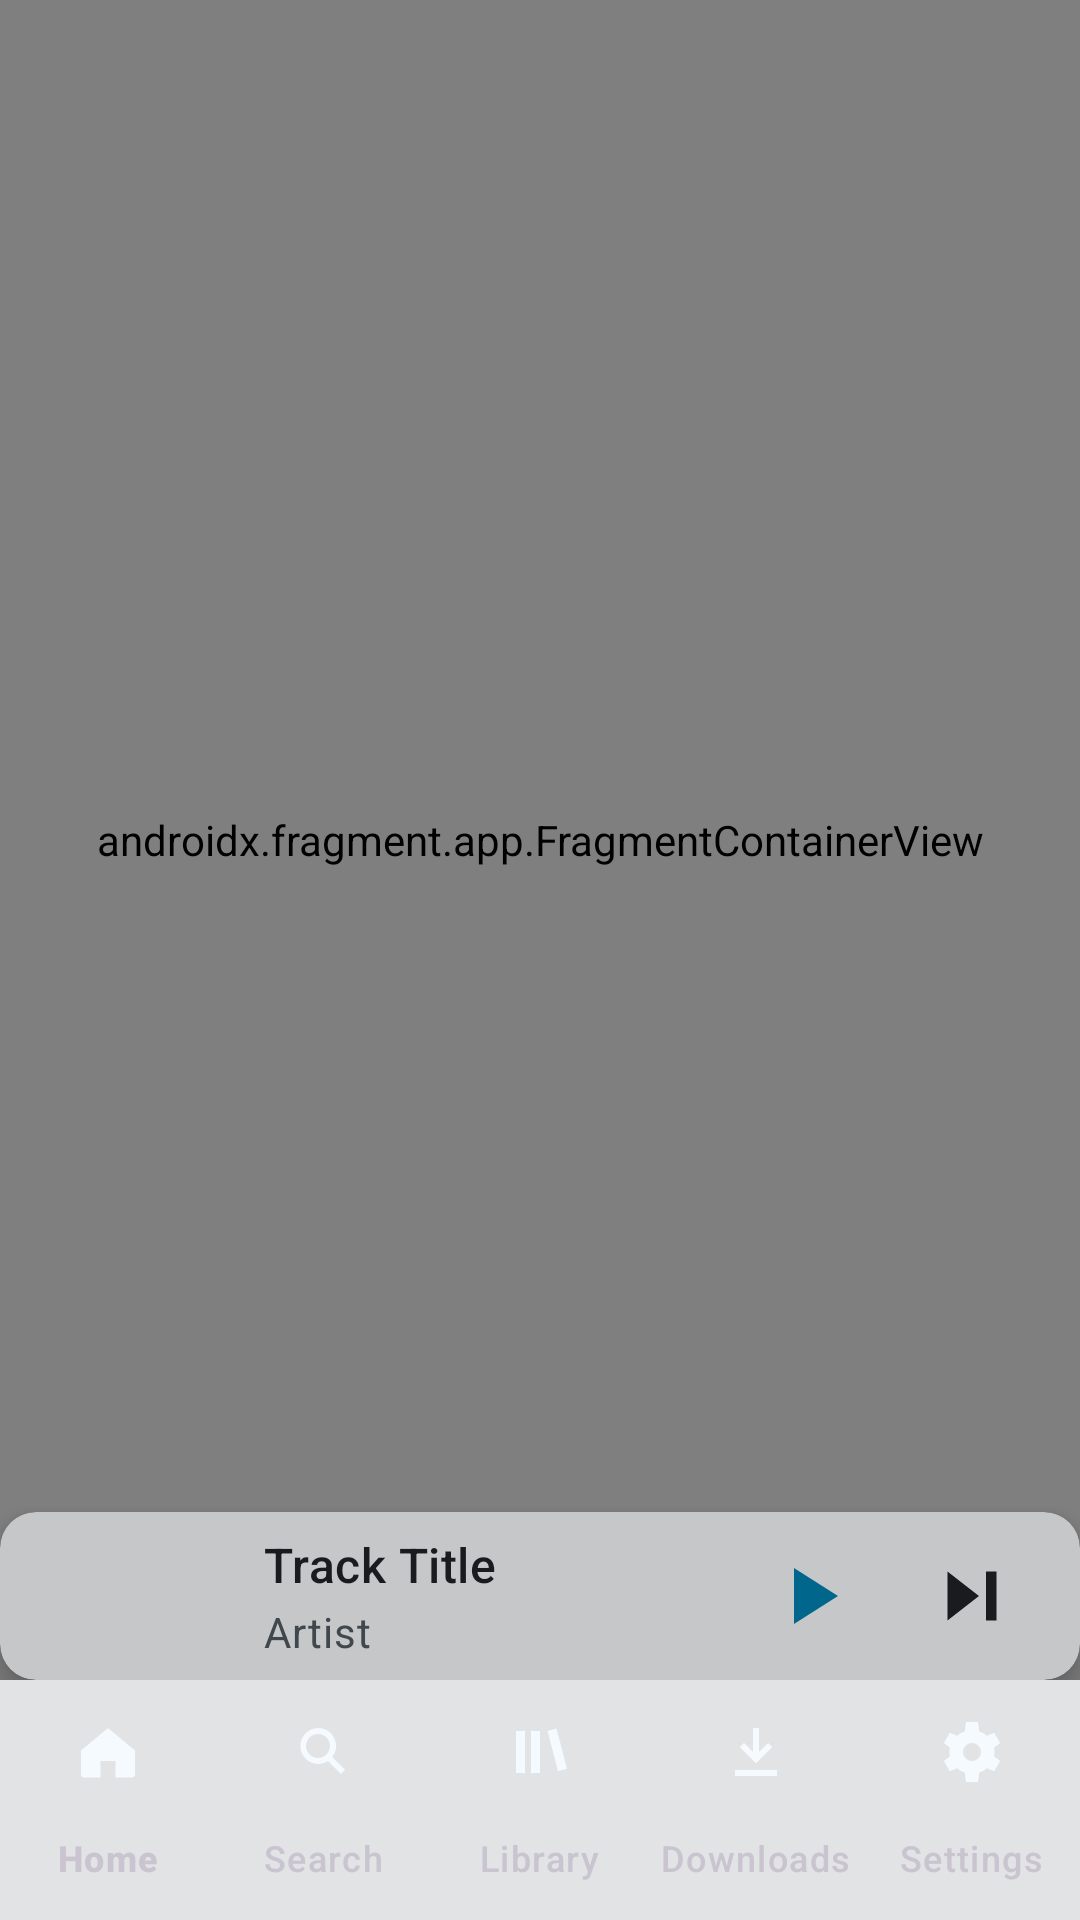

Point at icon controls on the screen. Image size 1080 × 1920, points as (x=x, y=y).
next: (x=972, y=1596)
play: (x=816, y=1596)
